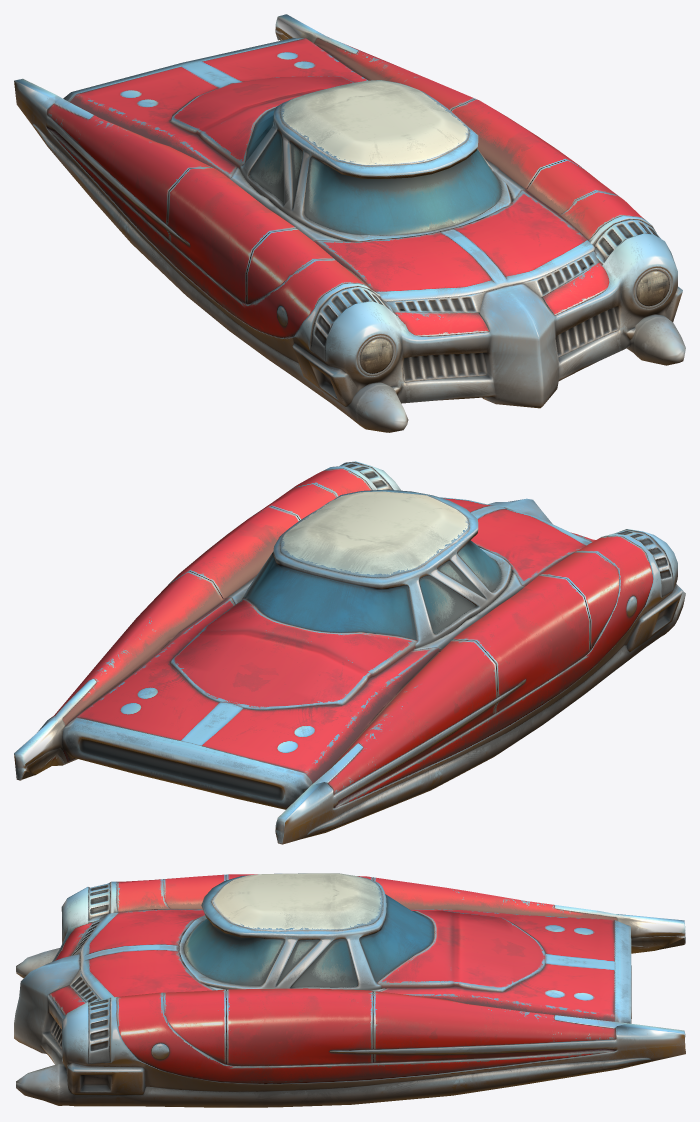
The model's file is 2_car.glb.
3 renders of one model, top to bottom at view 1: azimuth 30°, elevation 25°; view 2: azimuth 150°, elevation 25°; view 3: azimuth 270°, elevation 25°, orthographic. The views are drawn at different scales.
Parts seen in each view (by area): view 1: default_default_0; view 2: default_default_0; view 3: default_default_0.
Boxes of the visible parts, x1,y1,x2,y2 form: default_default_0: (14,14,685,432); default_default_0: (14,461,685,844); default_default_0: (14,873,685,1107).
Bounding box in the file's own units: 5.46 × 2.67 × 10.56.
Materials: 1 (1 with a texture image).
